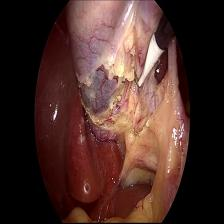Hook: (133, 32, 163, 92)
